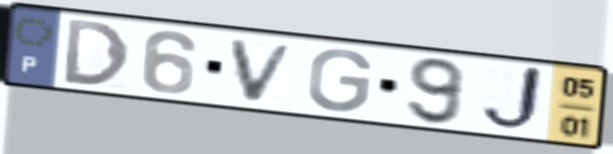6: (139, 29, 199, 96)
9: (404, 55, 467, 129)
D: (62, 16, 133, 89)
G: (304, 46, 376, 115)
J: (476, 63, 548, 136)
V: (226, 37, 300, 105)
